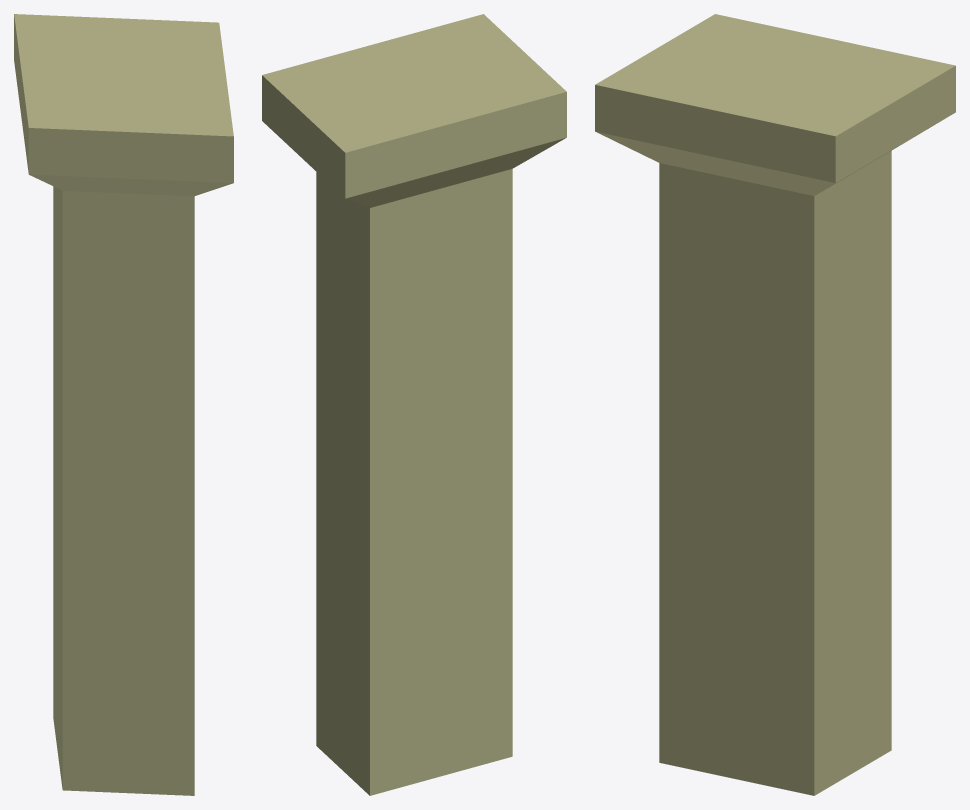
Rendered from 08_Colonne.fbx.
3 views of the same model, side by side, from view 1: azimuth 30°, elevation 25°; view 2: azimuth 150°, elevation 25°; view 3: azimuth 270°, elevation 25° (orthographic). The views are drawn at different scales.
Visible parts, largest first — view 1: Colonne; view 2: Colonne; view 3: Colonne.
Boxes of the visible parts, bbox=[...] form: Colonne: bbox=[14, 14, 233, 795]; Colonne: bbox=[262, 14, 566, 795]; Colonne: bbox=[595, 14, 955, 795].
Bounding box in the file's own units: 1.01 × 2.62 × 1.26.
